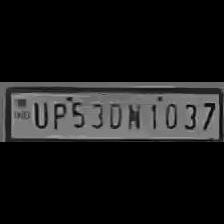0: (160, 99, 180, 130)
1: (144, 99, 160, 130)
3: (178, 99, 198, 130), (87, 98, 105, 130)
5: (68, 98, 86, 130)
7: (198, 98, 216, 130)
D: (104, 99, 124, 130)
N: (124, 99, 144, 131)
P: (48, 99, 68, 129)
U: (29, 98, 49, 130)
